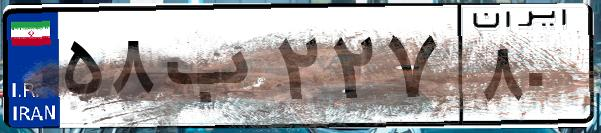0: (525, 38, 570, 115)
2: (270, 28, 330, 110), (330, 28, 385, 110)
5: (57, 26, 110, 100)
7: (385, 28, 445, 110)
8: (475, 38, 525, 113), (110, 28, 158, 98)
ب: (158, 20, 270, 120)
